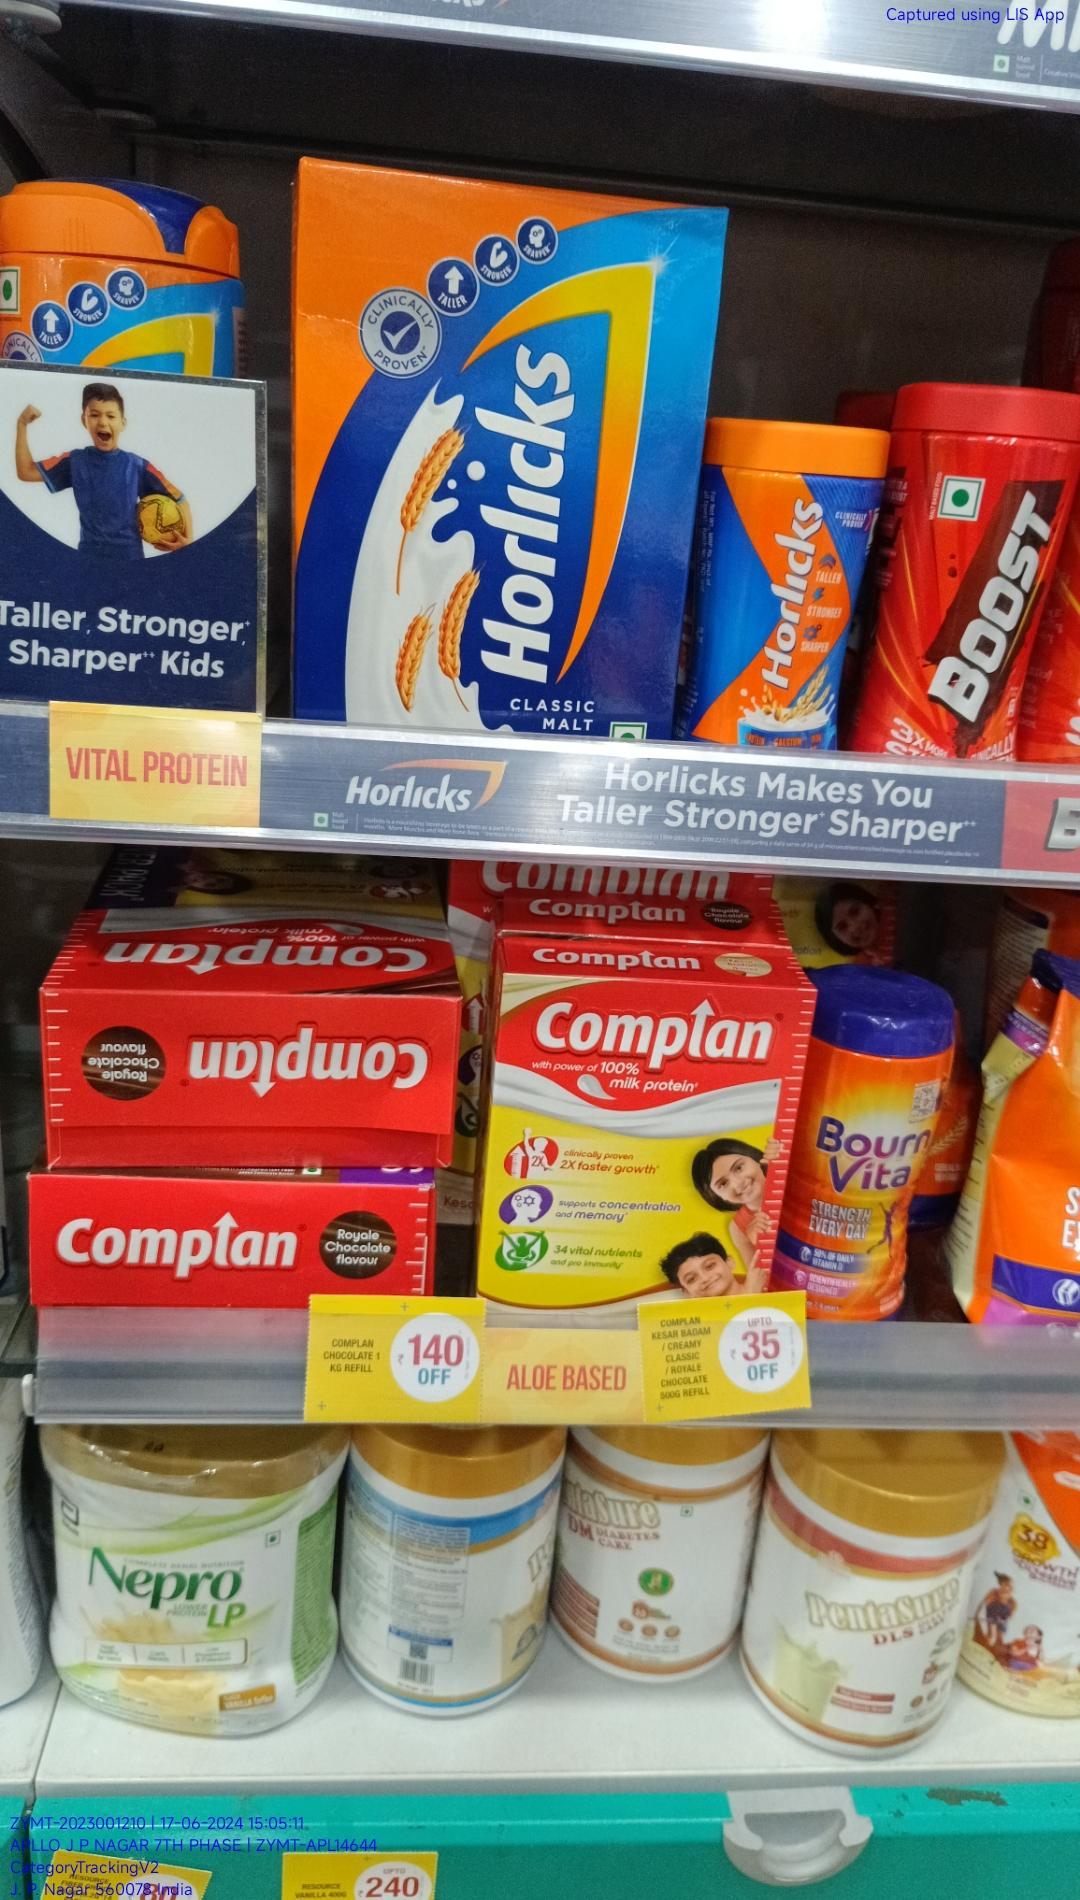BOURN_VITA_200_G_JAR: (802, 988, 934, 1318)
COMPLAN_KESAR_BADAM_200_GMS_PACK: (490, 976, 784, 1292)
HORLICK_CLASSIC_MALT_200_G_JAR: (699, 411, 865, 753)
HORLICK_CLASSIC_MALT_500_G_PACK: (293, 157, 681, 732)
